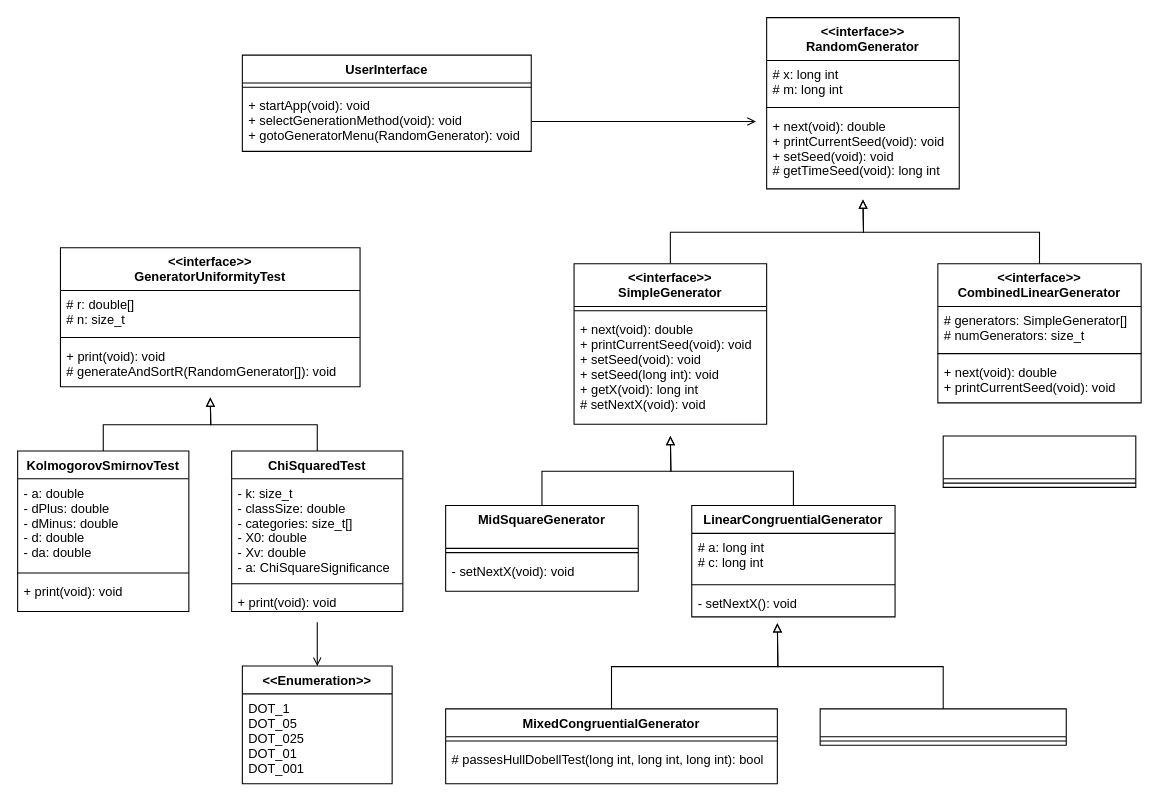
The diagram is 1159 pixels wide and 801 high, and some of its shapes have lost their labels. The shapes that lost their labels are listed below. From the top down, each one's centre as x and y in pixels, then its label:
(1039,461): LecuyerGenerator
(942,726): MultiplicativeCongruentialGenerator
